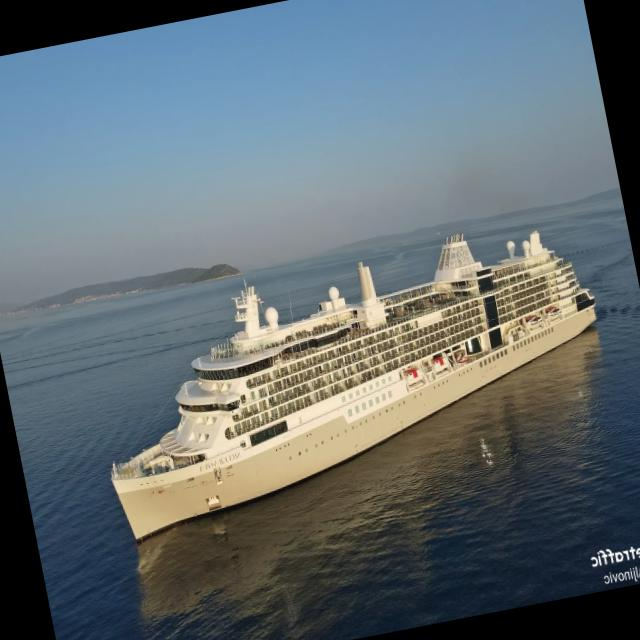Cruise: (112, 231, 596, 540)
